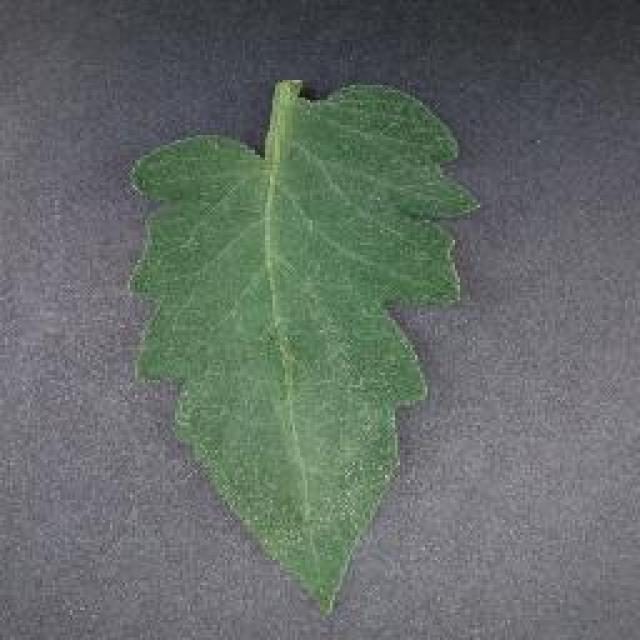Tomato___healthy: (125, 78, 485, 617)
